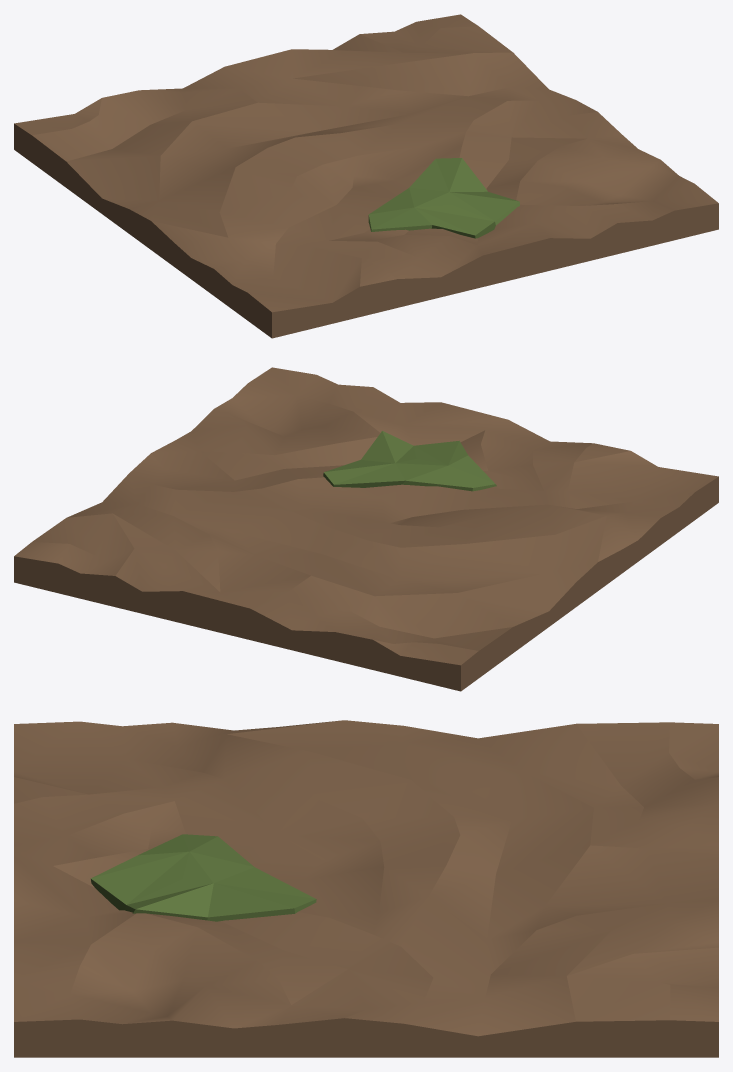
The model's file is Ground_Base_D.glb.
The picture shows the model from 3 angles, top to bottom: view 1: azimuth 30°, elevation 25°; view 2: azimuth 150°, elevation 25°; view 3: azimuth 270°, elevation 25°; orthographic projection. The views are drawn at different scales.
Visible parts, largest first — view 1: Ground_Base_D; view 2: Ground_Base_D; view 3: Ground_Base_D.
Boxes of the visible parts, x1,y1,x2,y2 form: Ground_Base_D: [14, 14, 718, 338]; Ground_Base_D: [14, 367, 718, 691]; Ground_Base_D: [14, 720, 718, 1057].
Size of the model in its own units: 1.47 by 0.1218 by 1.47.
